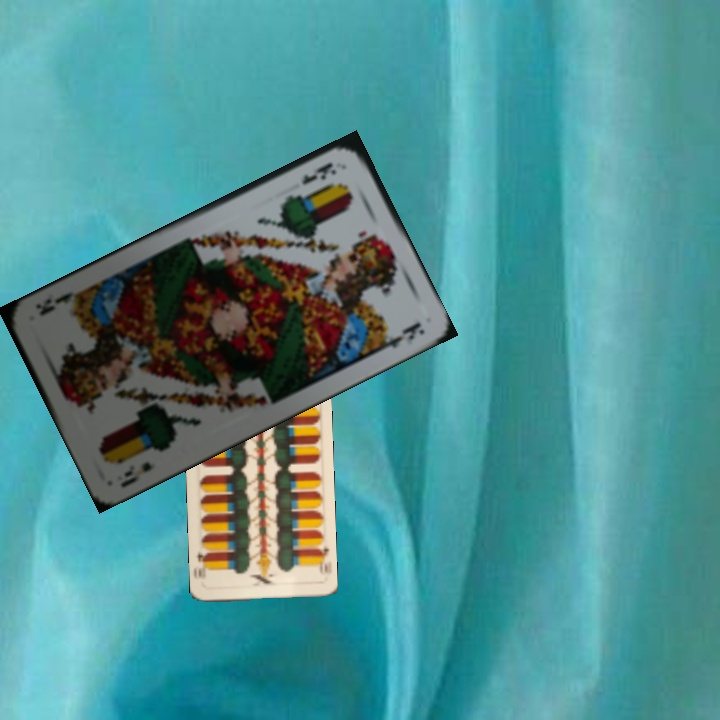E10: (312, 543, 331, 578)
EK: (116, 458, 158, 490), (298, 158, 339, 188)
